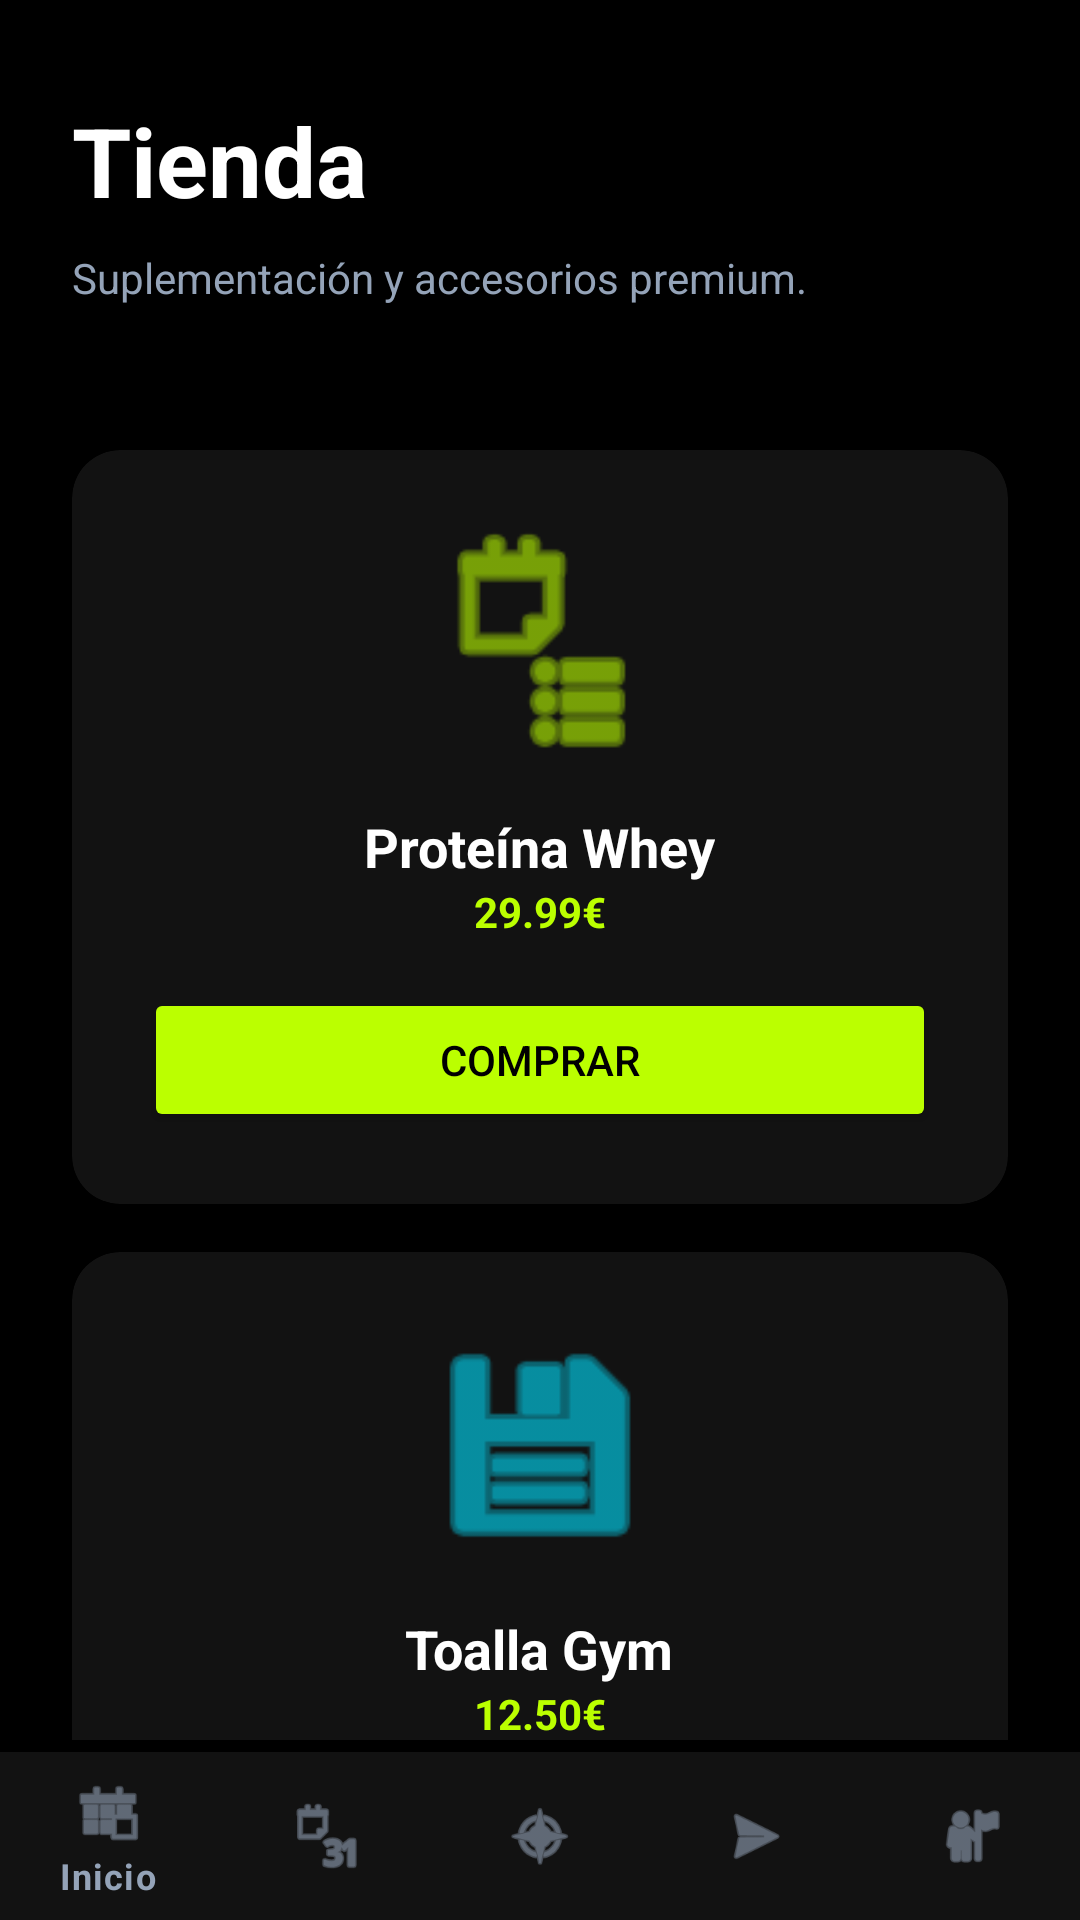

Icon bounding boxes for this 1080 x 1920 phone screenshot, format (x1, y1, x2, y2):
agenda: (457, 534, 626, 748)
save: (449, 1353, 631, 1537)
